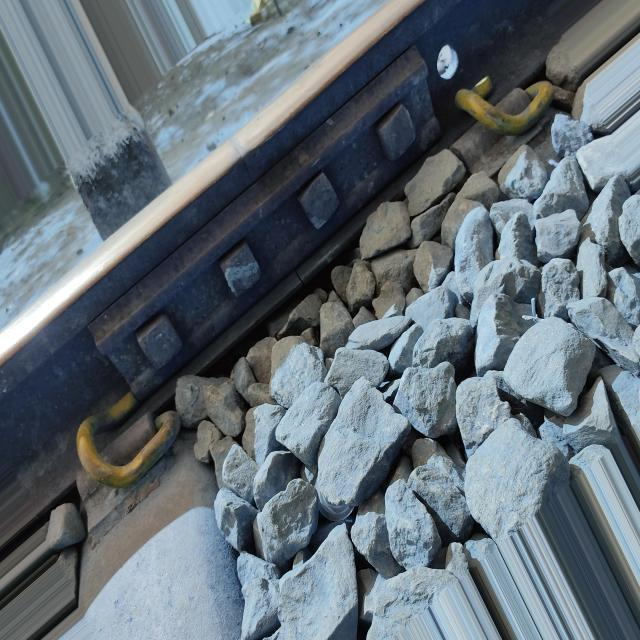Good Fasteners: (59, 382, 194, 557), (450, 54, 562, 181)
Good Joint: (93, 42, 447, 406)
